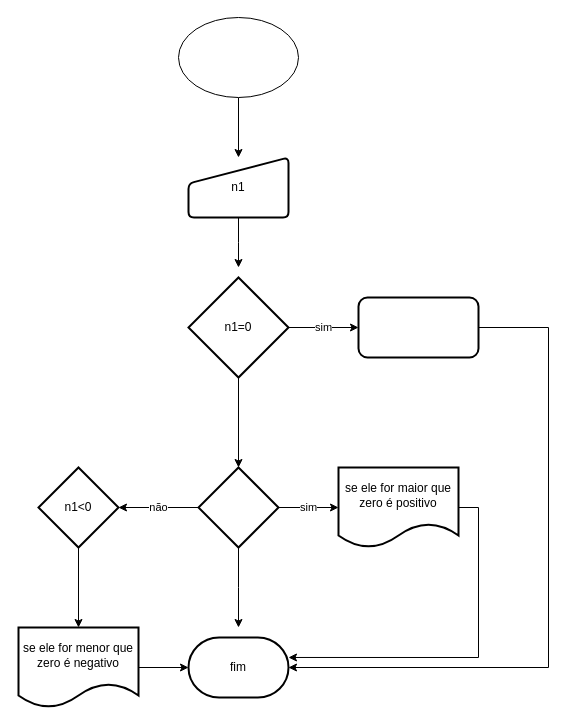
Image size: 574x726. Some labels were removed from this diagram. Each missing label, with the centre of its shape:
inicio: [238,57]
n1>=0: [238,507]
se o numero é igual a 0 ele é neutro: [418,327]
